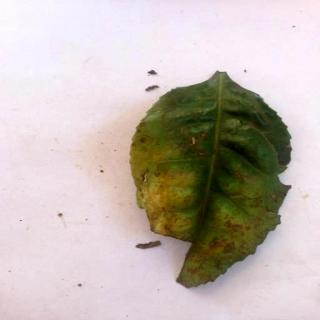Brown Blight: (132, 71, 294, 292)
